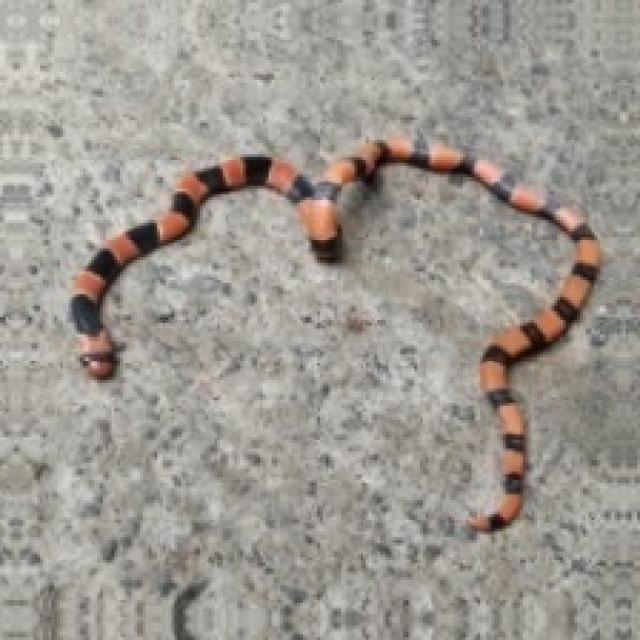barredcoral snake: (69, 134, 600, 531)
